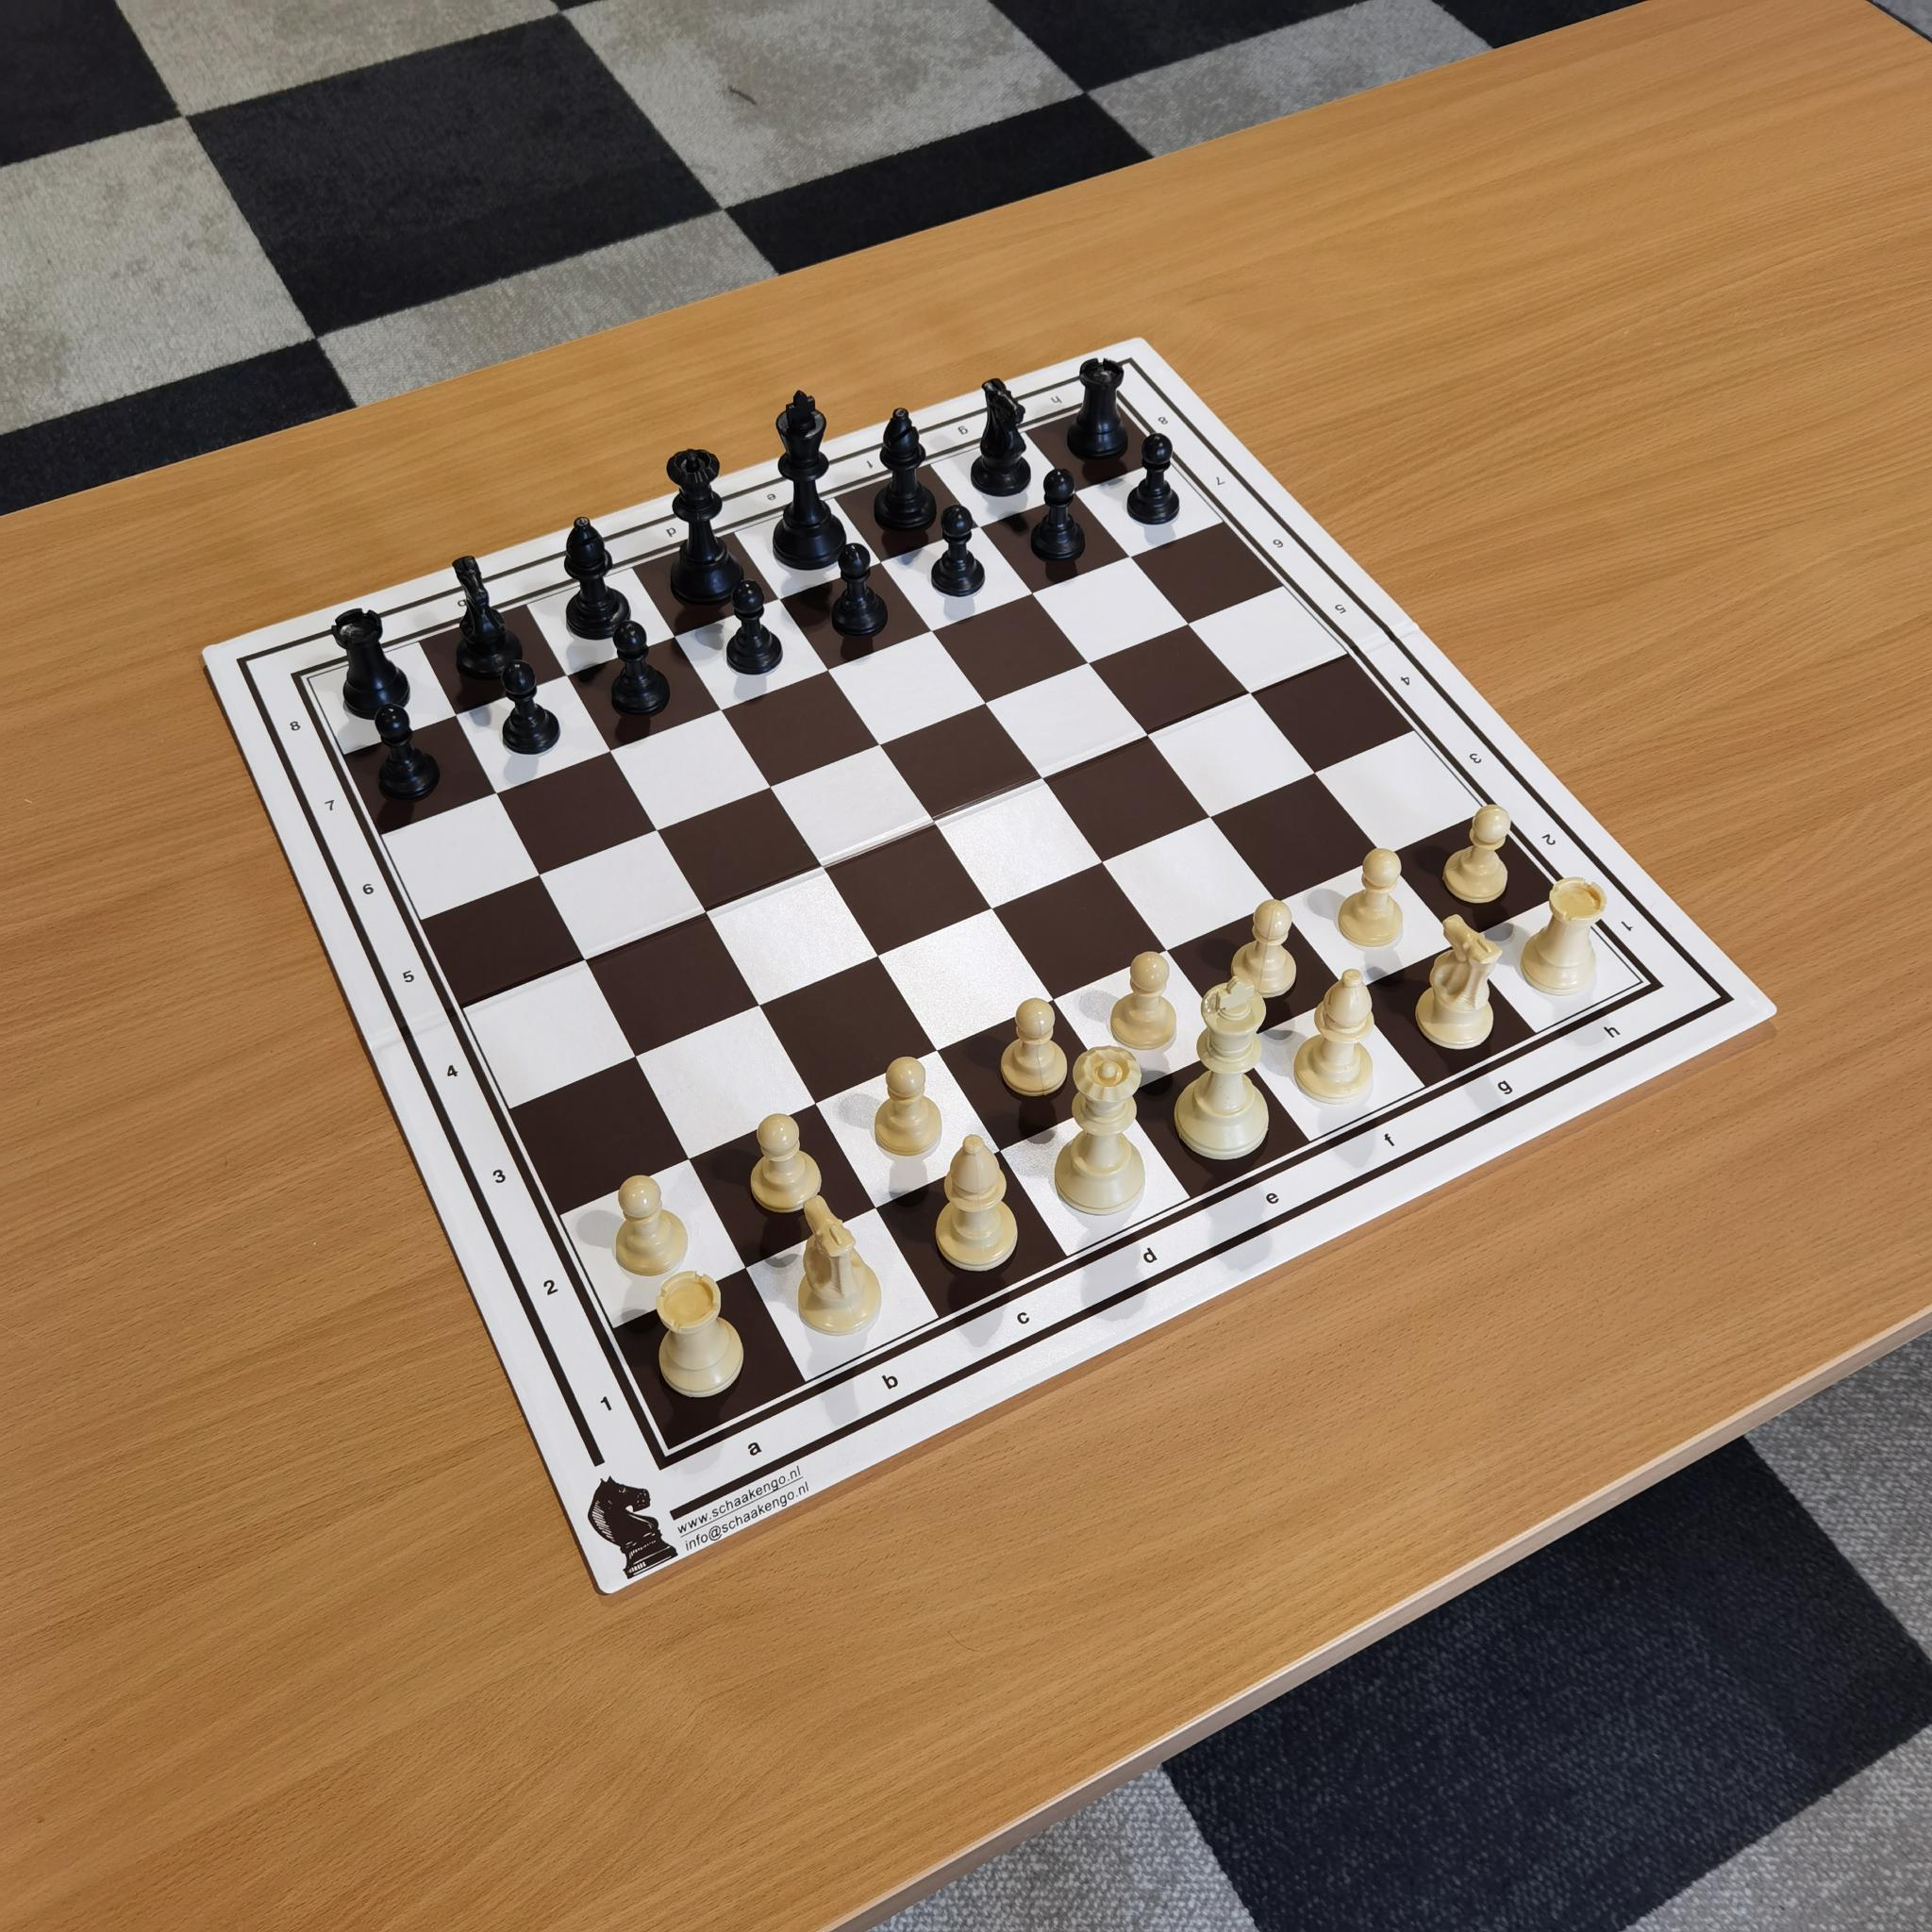corners: (635, 1431, 694, 1497), (1617, 961, 1679, 1005), (1088, 382, 1131, 437), (278, 660, 327, 695)
eight: (280, 704, 317, 747), (1152, 405, 1178, 433)
one: (582, 1378, 630, 1435), (1606, 901, 1649, 950)
